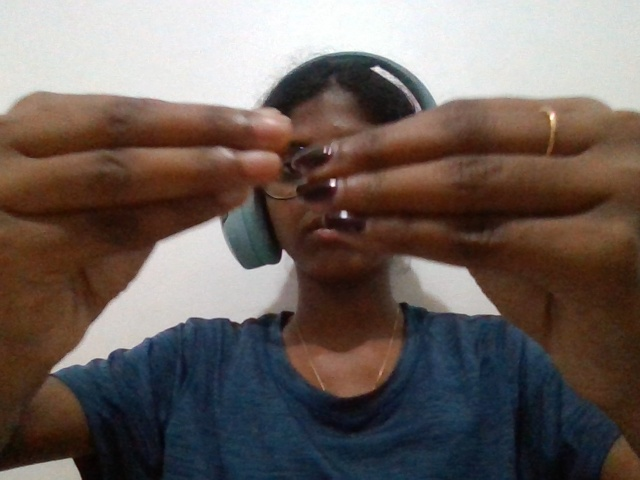More: (1, 69, 640, 459)
